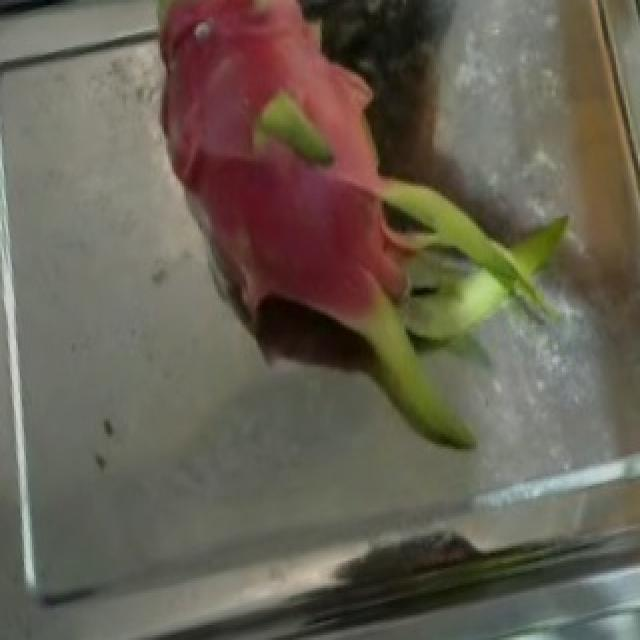fruit: (112, 3, 564, 429)
